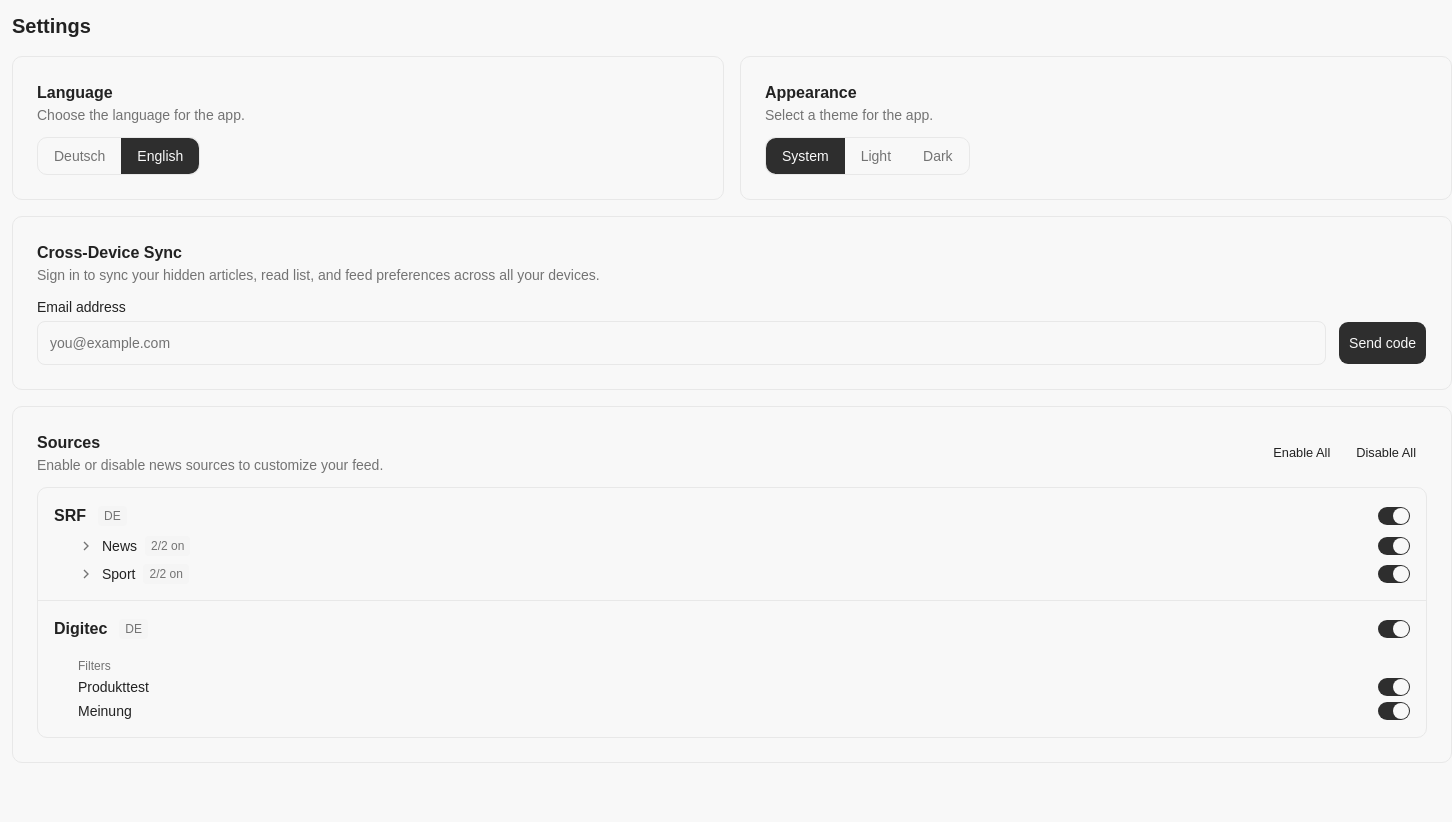
Test: FeedConfigPage › grouped feeds › shows individual feeds when group is expanded
This screenshot has width=1452, height=822.
Click the button "News 2/2 on" at (120, 546), box [78,536,1370,556]
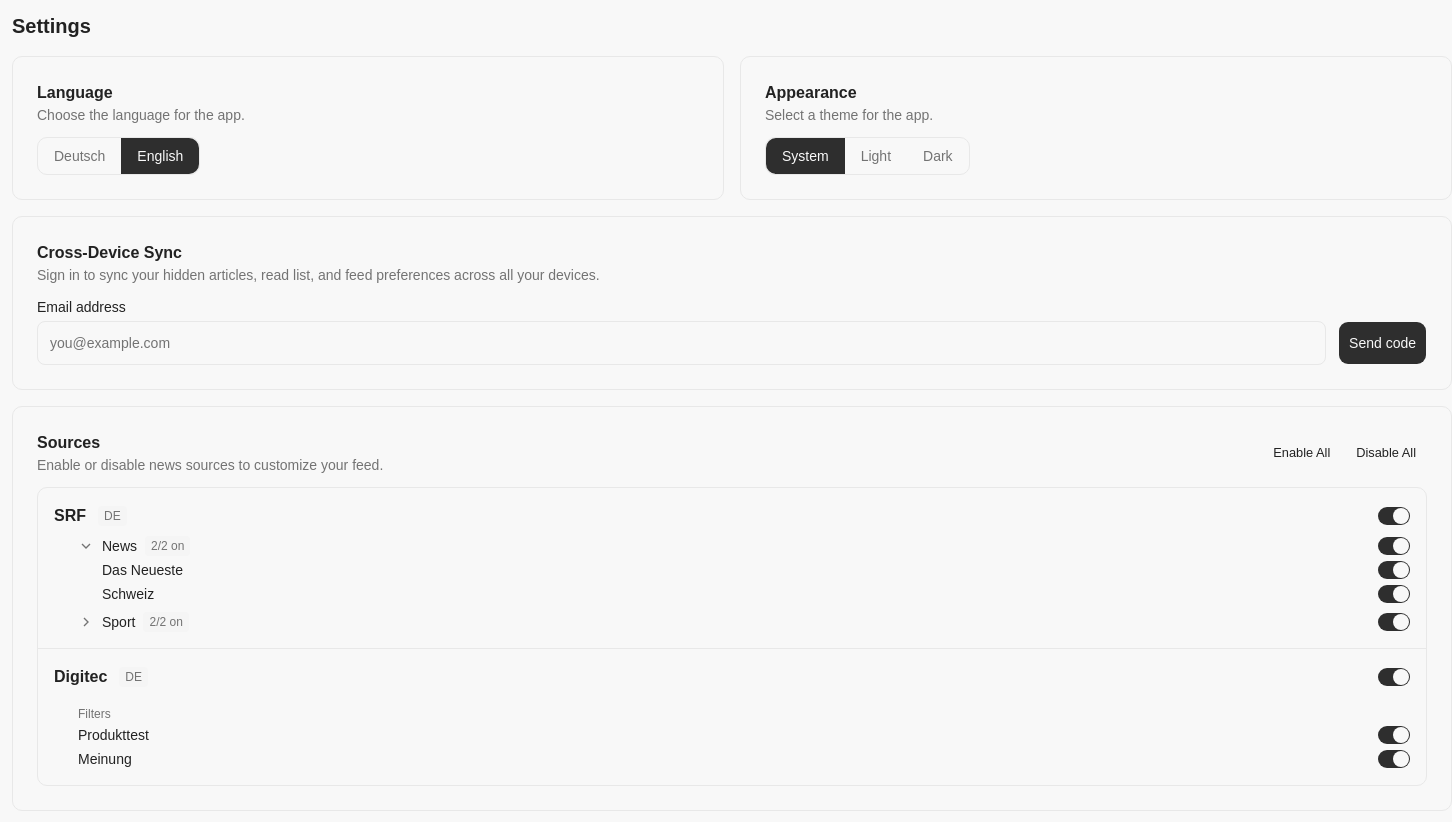
Check: the text "Das Neueste" is shown, box [102,560,183,580]
Check: the text "Schweiz" is shown, box [102,584,154,604]
